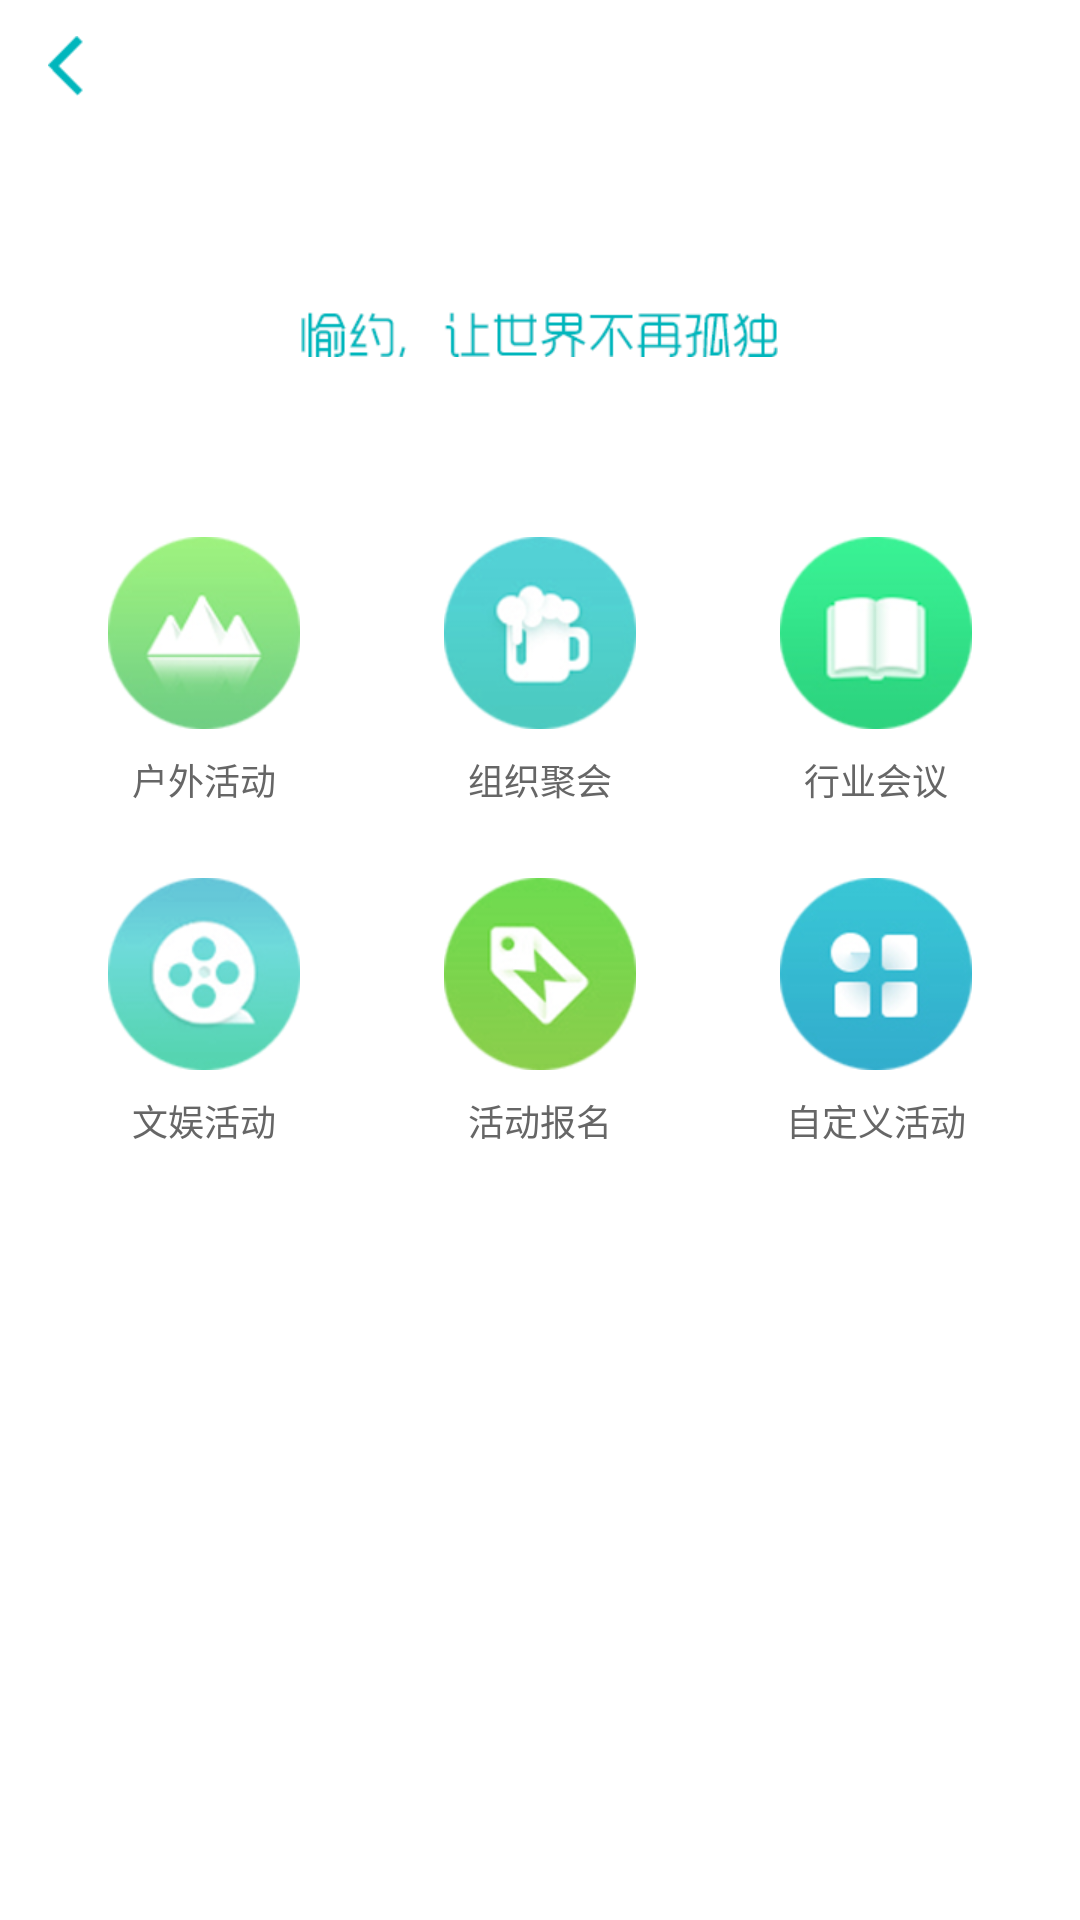

Where icons sit on this 1080px x 1920px app screen, as (x1, y1, x2, y2):
location back: (48, 36, 83, 96)
others: (780, 878, 972, 1070)
